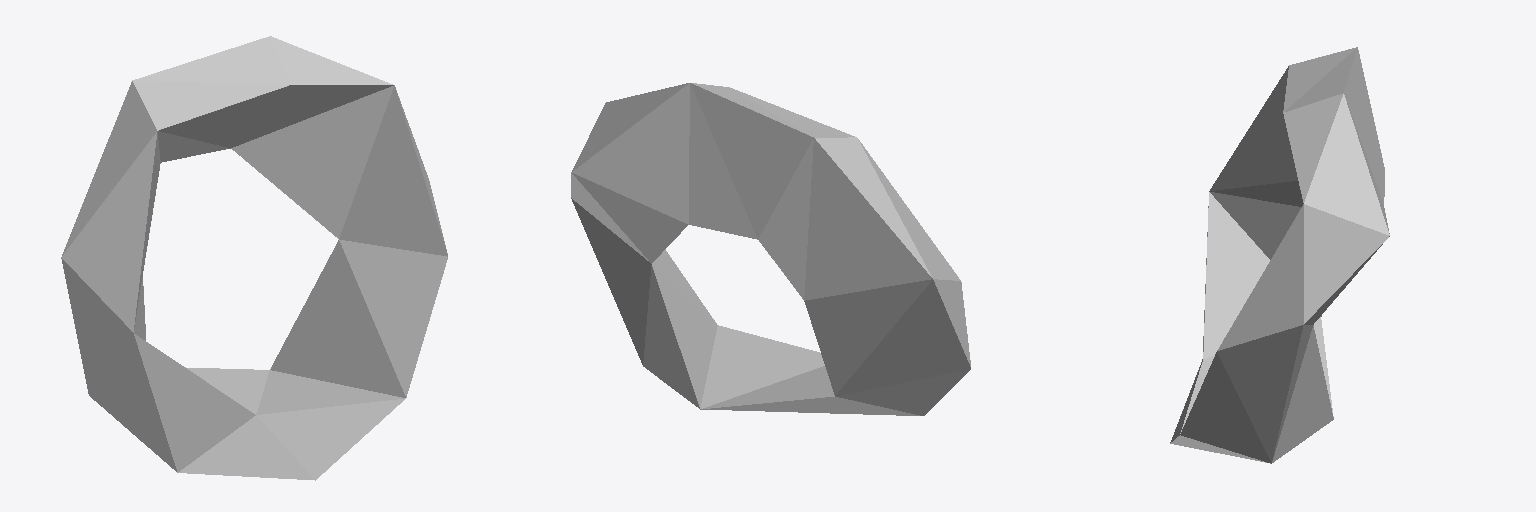
File: bgrnd57-low.obj
3 views of the same model, side by side, from view 1: azimuth 30°, elevation 25°; view 2: azimuth 150°, elevation 25°; view 3: azimuth 270°, elevation 25° (orthographic).
Visible parts, largest first — view 1: frm-low; view 2: frm-low; view 3: frm-low.
Boxes of the visible parts, box(x1,y1,x2,y2) form: frm-low: box(61, 36, 447, 480); frm-low: box(571, 83, 970, 415); frm-low: box(1170, 47, 1389, 463).
Bounding box in the file's own units: 417 × 398 × 214.